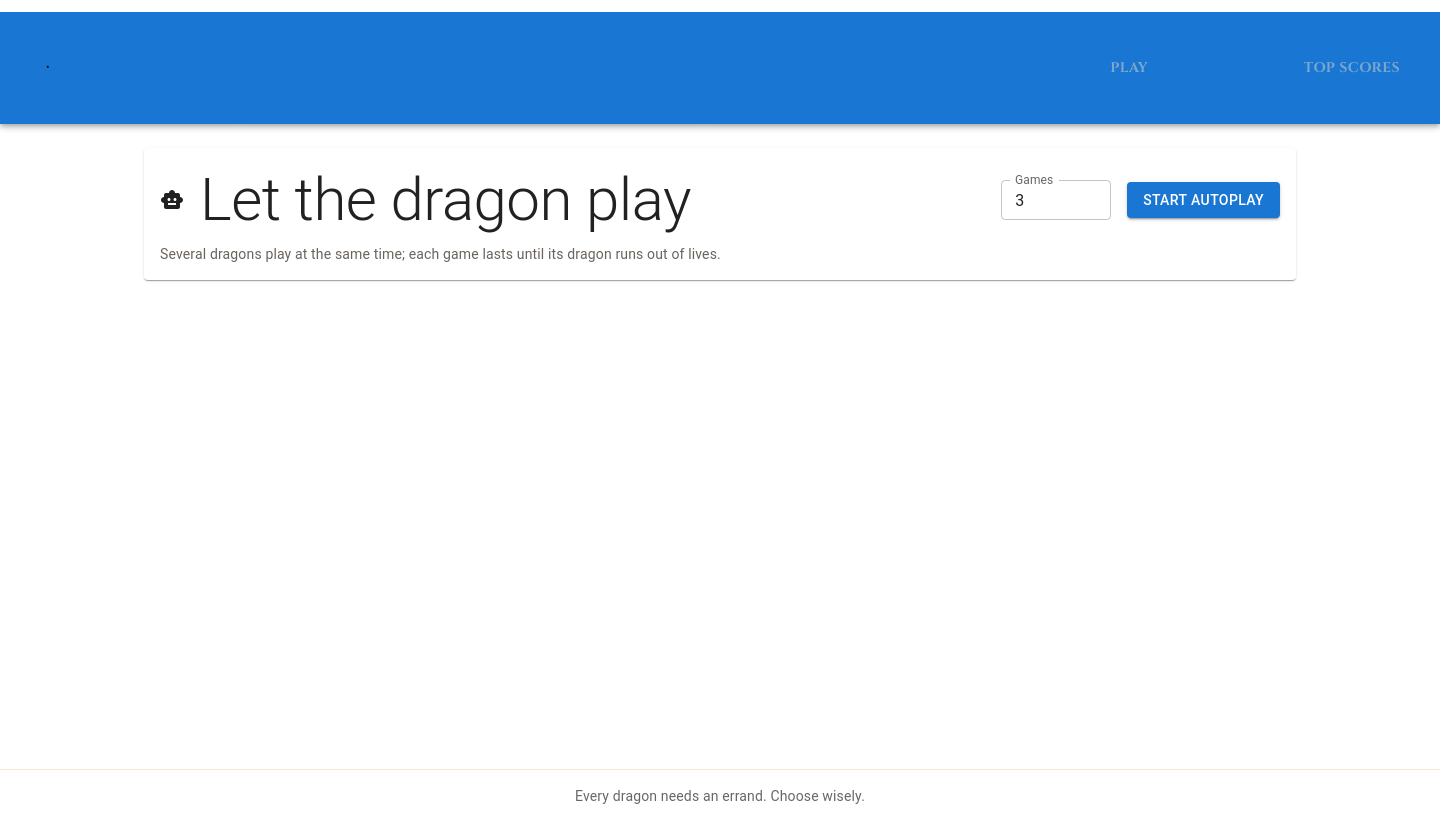
Scenario: App › appLoadsAndShowsTheLeaderboardOnItsTab
Click the tab "Top scores": (1352, 68) [1288,44,1416,92]
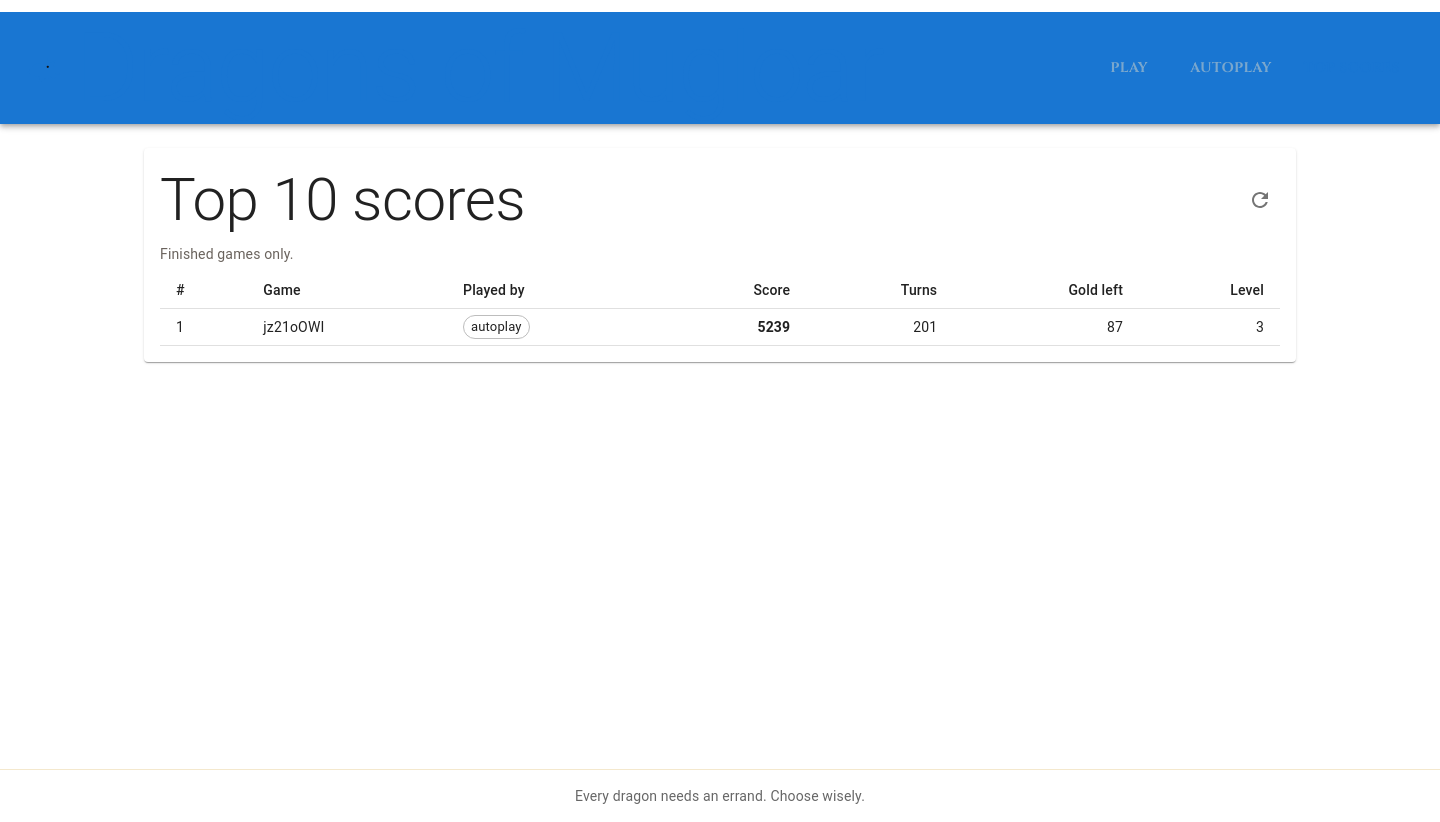
Expected: the text "jz21oOWI" is shown, [247,308,447,346]
